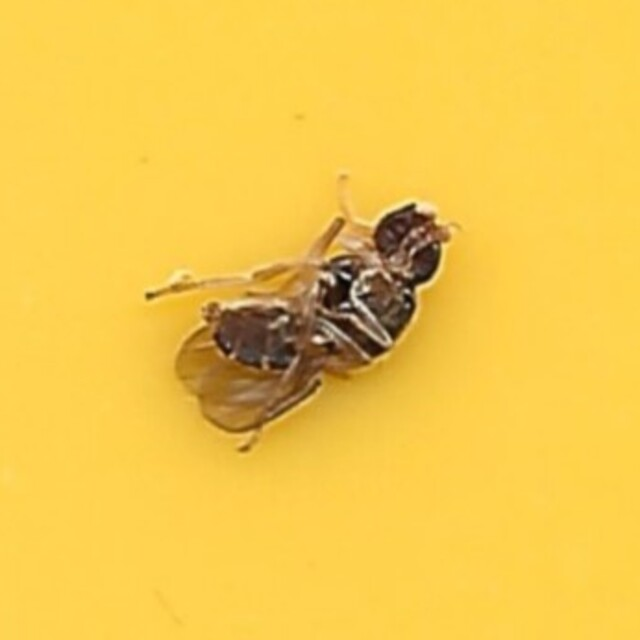Brachycera: (185, 204, 455, 436)
